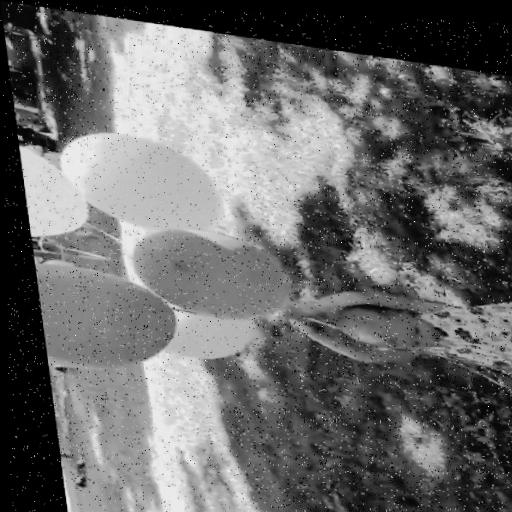balloon: (58, 128, 225, 235), (131, 224, 294, 324), (34, 262, 179, 373), (19, 145, 90, 241), (162, 304, 257, 362)
